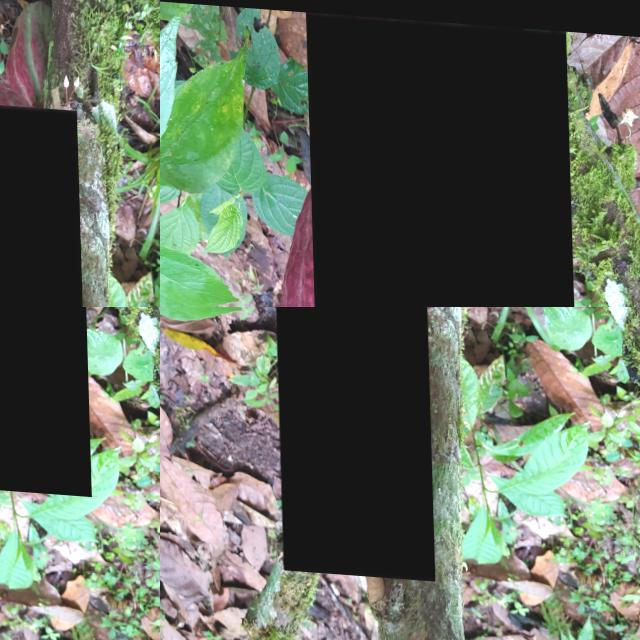Sana: (306, 8, 574, 307), (271, 307, 431, 575), (0, 97, 83, 307), (0, 307, 89, 488)
